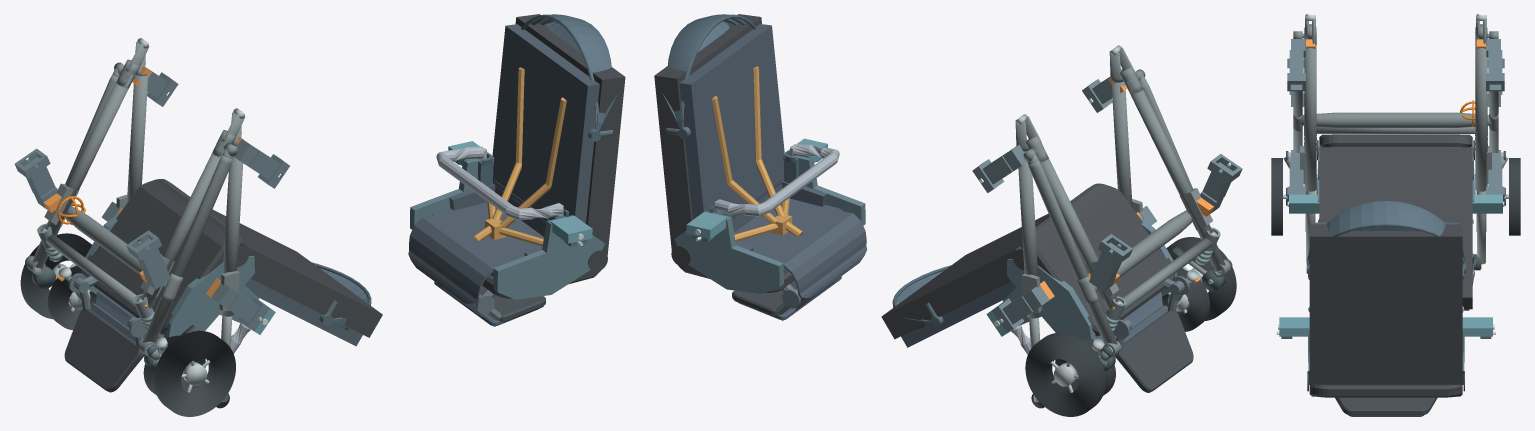
The model's file is D02_w550_state3_wheel_S.glb.
The picture shows the model from 3 angles, left to right: view 1: azimuth 30°, elevation 25°; view 2: azimuth 150°, elevation 25°; view 3: azimuth 270°, elevation 25°; orthographic projection. The views are drawn at different scales.
Visible parts, largest first — view 1: D02_Front_Backrest, D02_Rear_Shell, D02_Rear_Backrest, D02_Front, D02_Front_Shell, RL_tire.004, D02_Front_KneeCover, D02_Rear_Legrest, D02_Rear, V46_rear_leg_-1.005, D02_Front_FullGuard, D02_Front_ShoulderStraps (+18 smaller); view 2: D02_Front_Backrest, D02_Rear_Backrest, D02_Rear_Shell, D02_Front, D02_Front_Shell, RR_tire.004, D02_Front_KneeCover, D02_Rear_Legrest, D02_Rear, V46_rear_leg_1.005, D02_Front_FullGuard, D02_Front_ShoulderStraps (+18 smaller); view 3: D02_Front_Backrest, D02_Rear_Backrest, D02_Front_Canopy, V46_rearbar.005, D02_Rear_Shell, D02_Front_Shell, D02_Front_Legrest, main_upper_1.005, main_upper_-1.005, D02_Front, D02_Rear, front_fixed_round_tube.004 (+11 smaller).
Part boxes in pixels (box(x1,y1,x2,y2)): D02_Front_Backrest: box(492, 14, 625, 255); D02_Rear_Shell: box(83, 179, 248, 334); D02_Rear_Backrest: box(211, 209, 382, 346); D02_Front: box(410, 141, 604, 299); D02_Front_Shell: box(432, 153, 607, 298); RL_tire.004: box(154, 331, 235, 416); D02_Front_KneeCover: box(408, 215, 500, 326); D02_Rear_Legrest: box(64, 291, 144, 392); D02_Rear: box(81, 211, 275, 338); V46_rear_leg_-1.005: box(142, 155, 232, 343); D02_Front_FullGuard: box(436, 146, 563, 220); D02_Front_ShoulderStraps: box(492, 67, 566, 228); D02_Front_Backrest: box(654, 14, 784, 250); D02_Rear_Backrest: box(881, 213, 1049, 347); D02_Rear_Shell: box(1012, 183, 1174, 336); D02_Front: box(674, 138, 865, 294); D02_Front_Shell: box(671, 150, 843, 292); RR_tire.004: box(1025, 332, 1105, 416); D02_Front_KneeCover: box(777, 211, 866, 320); D02_Rear_Legrest: box(1115, 293, 1193, 392); D02_Rear: box(986, 214, 1177, 339); V46_rear_leg_1.005: box(1028, 160, 1117, 344); D02_Front_FullGuard: box(714, 144, 839, 216); D02_Front_ShoulderStraps: box(711, 66, 784, 224); D02_Front_Backrest: box(1309, 222, 1462, 384); D02_Rear_Backrest: box(1319, 147, 1472, 310); D02_Front_Canopy: box(1307, 201, 1465, 264); V46_rearbar.005: box(1301, 112, 1490, 127); D02_Rear_Shell: box(1317, 134, 1474, 160); D02_Front_Shell: box(1307, 371, 1464, 397); D02_Front_Legrest: box(1335, 397, 1437, 416); main_upper_1.005: box(1475, 45, 1487, 191); main_upper_-1.005: box(1304, 45, 1316, 191); D02_Front: box(1276, 317, 1495, 384); D02_Rear: box(1286, 146, 1505, 213); front_fixed_round_tube.004: box(1316, 127, 1475, 133).
Size of the model in its own units: 1.35 by 0.7426 by 0.641.
